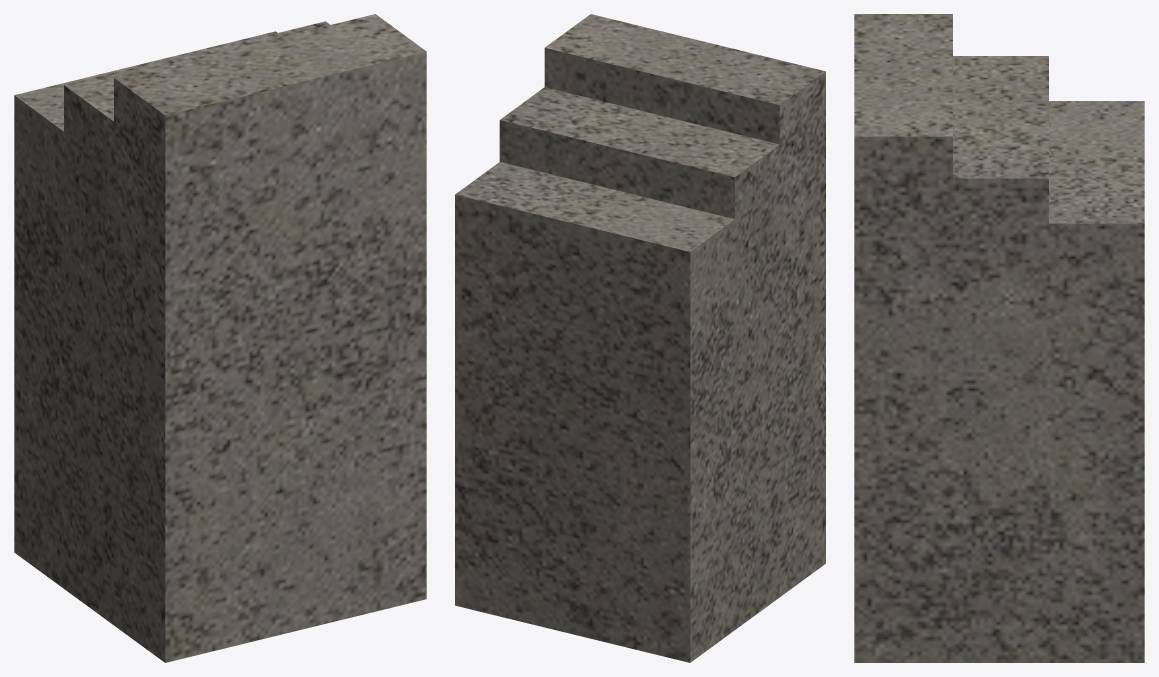
The model's file is escalera04.obj.
3 renders of one model, left to right at view 1: azimuth 30°, elevation 25°; view 2: azimuth 150°, elevation 25°; view 3: azimuth 270°, elevation 25°, orthographic. The views are drawn at different scales.
Size of the model in its own units: 1 by 2 by 1.
1 material, 1 textured.
